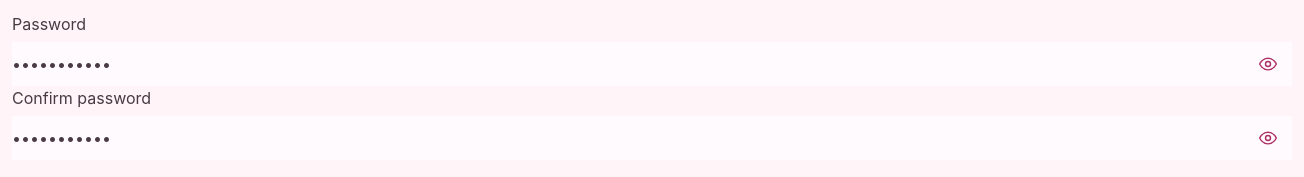
Test case: password visibility icons › reveals and hides each field independently without submitting the form
The width and height of the screenshot is (1304, 177).
Click the button named "Show password": point(1268, 64) [1248, 44, 1288, 84]
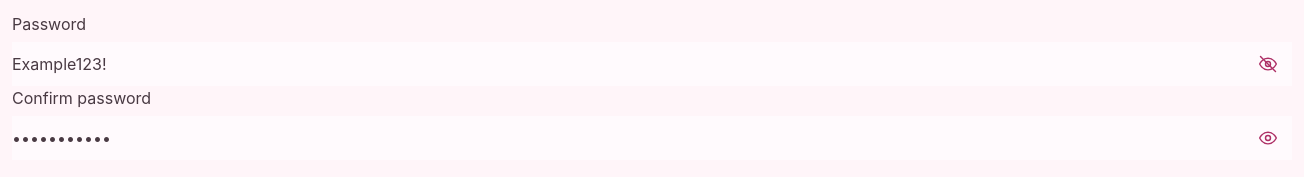
Expected: the field labelled "Password" holds "Example123!", [12, 42, 1292, 86]
Result: the field labelled "Password" shows its text at [12, 42, 1292, 86]
Click the button named "Show confirm password": point(1268, 138) [1248, 118, 1288, 158]
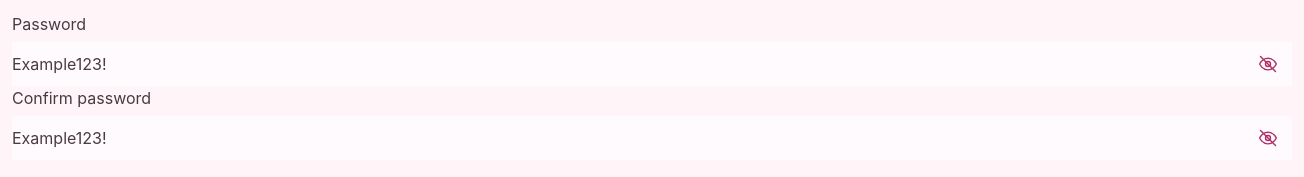
Result: the field labelled "Confirm password" shows its text at [12, 116, 1292, 160]
Click the button named "Hide password": point(1268, 64) [1248, 44, 1288, 84]
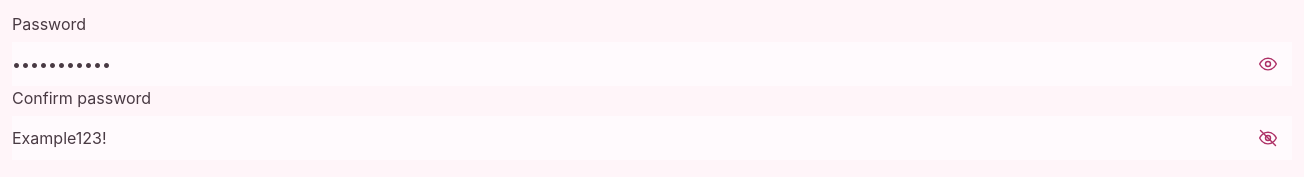
Result: the password field labelled "Password" hides its text at [12, 42, 1292, 86]
